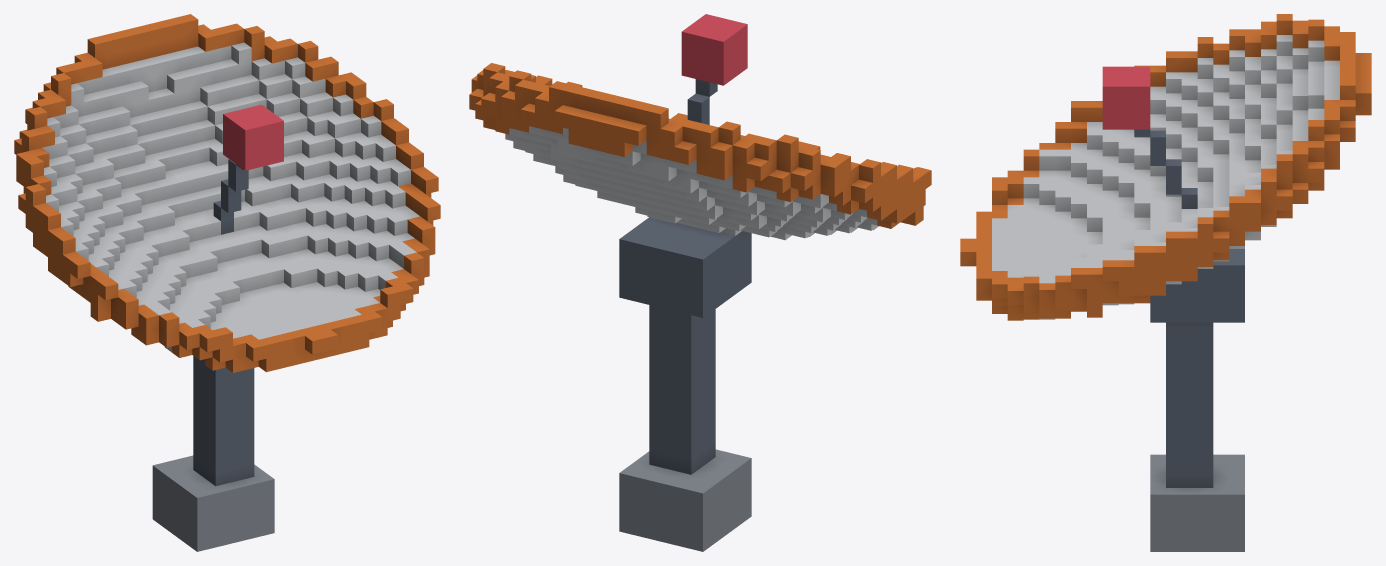
Rendered from dish_m.glb.
The picture shows the model from 3 angles, left to right: view 1: azimuth 30°, elevation 25°; view 2: azimuth 150°, elevation 25°; view 3: azimuth 270°, elevation 25°; orthographic projection. The views are drawn at different scales.
Visible parts, largest first — view 1: Base; view 2: Base; view 3: Base.
Boxes of the visible parts, box(x1,y1,x2,y2) form: Base: box(14, 14, 440, 551); Base: box(469, 14, 931, 551); Base: box(960, 14, 1371, 551).
Bounding box in the file's own units: 2.8 × 3.3 × 2.6.
